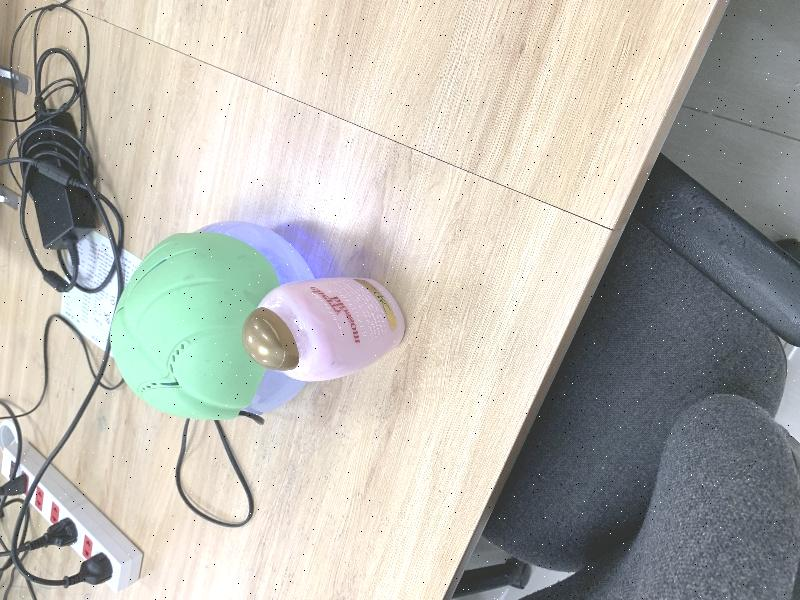CherryBlossom_Conditioner: (242, 277, 406, 382)
